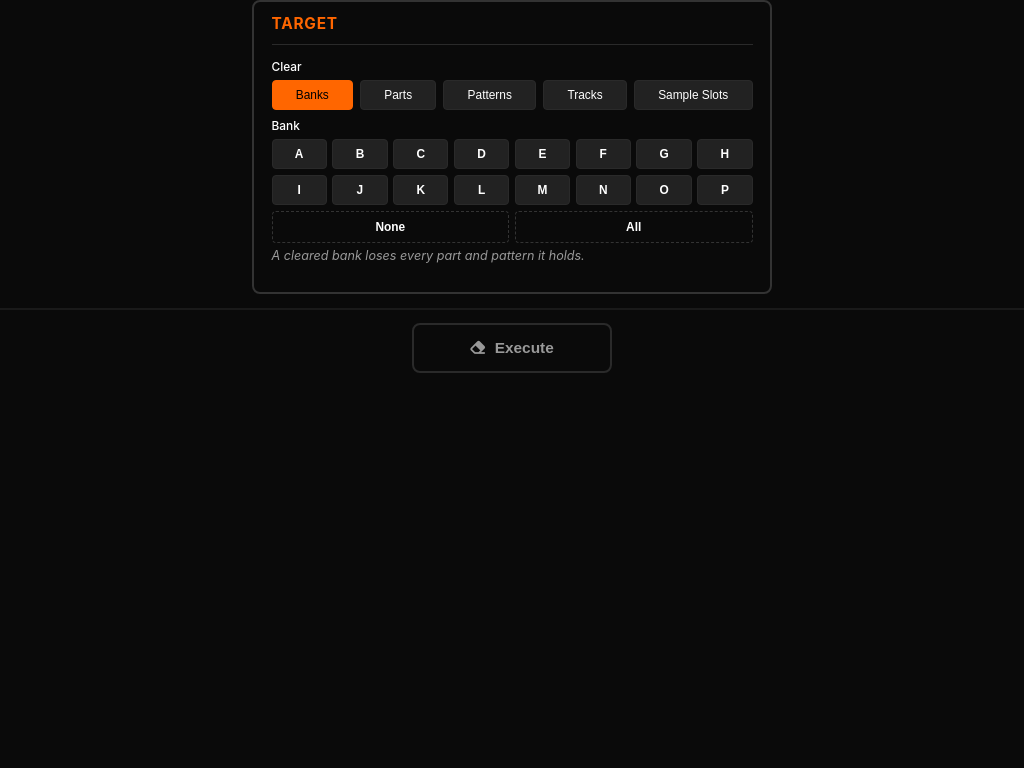
it: ClearProjectPanel - guards › keeps the backup note out of the pane until the confirmation
Expected: the text "Rewritten files are backed up" is not shown
Click the button "A": (299, 154) [272,139,327,169]
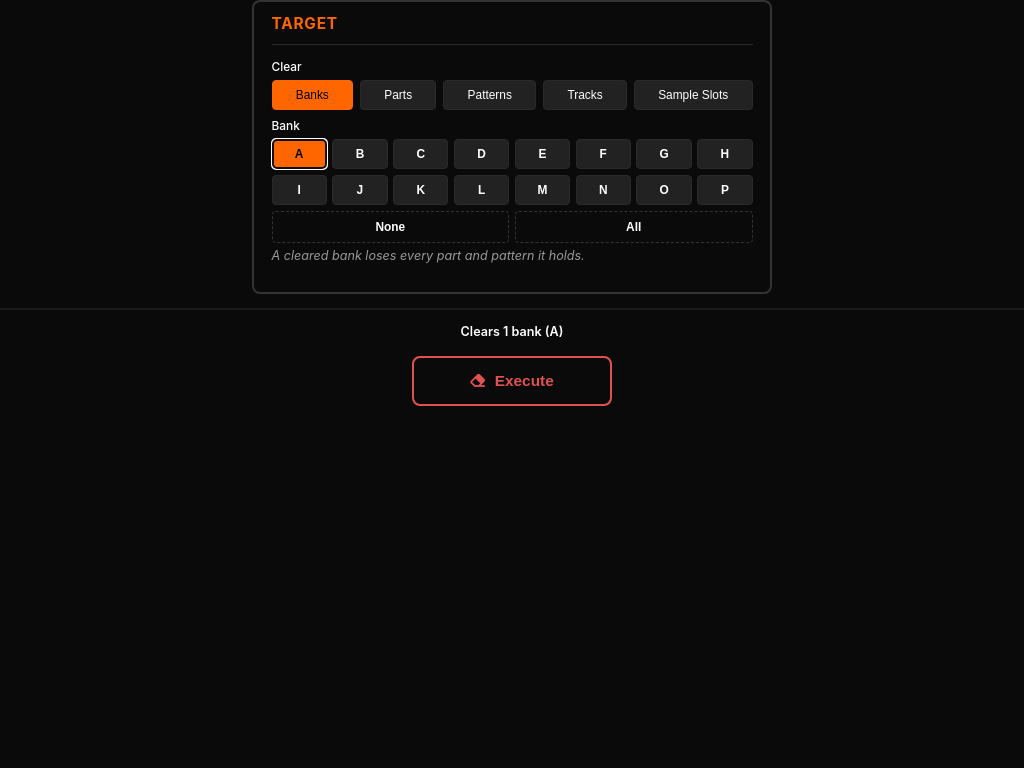
Click the button "Execute": (512, 381) [412,356,612,406]
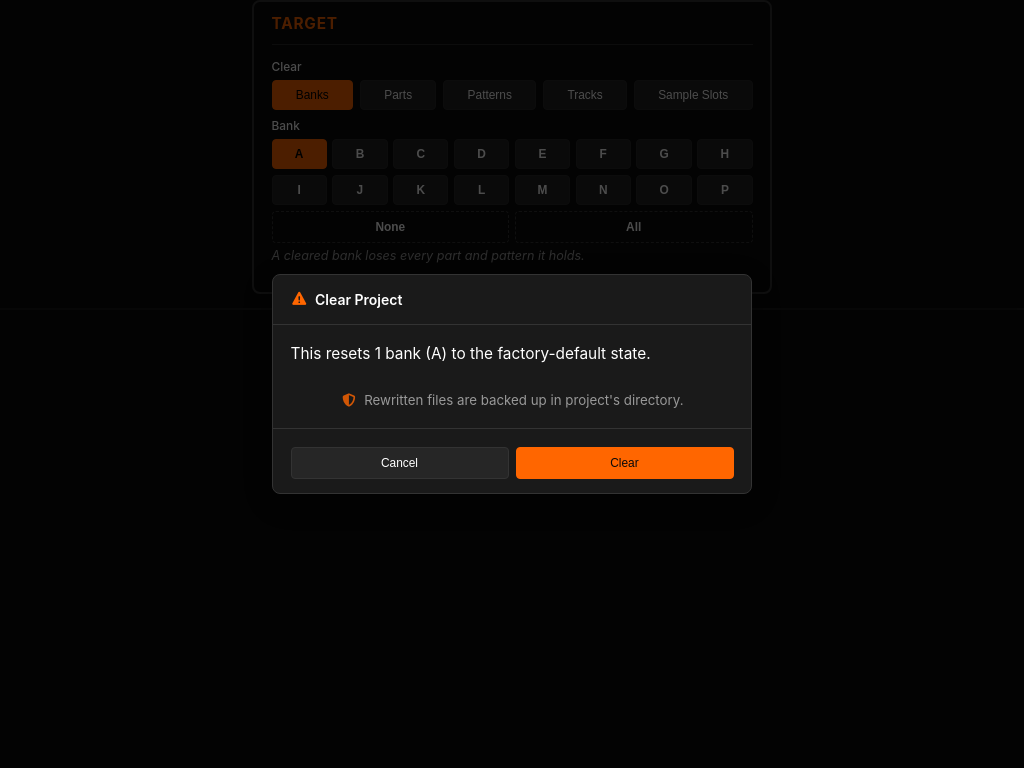
Result: the text "Rewritten files are backed up in project's directory." is shown at [364,391,684,411]
